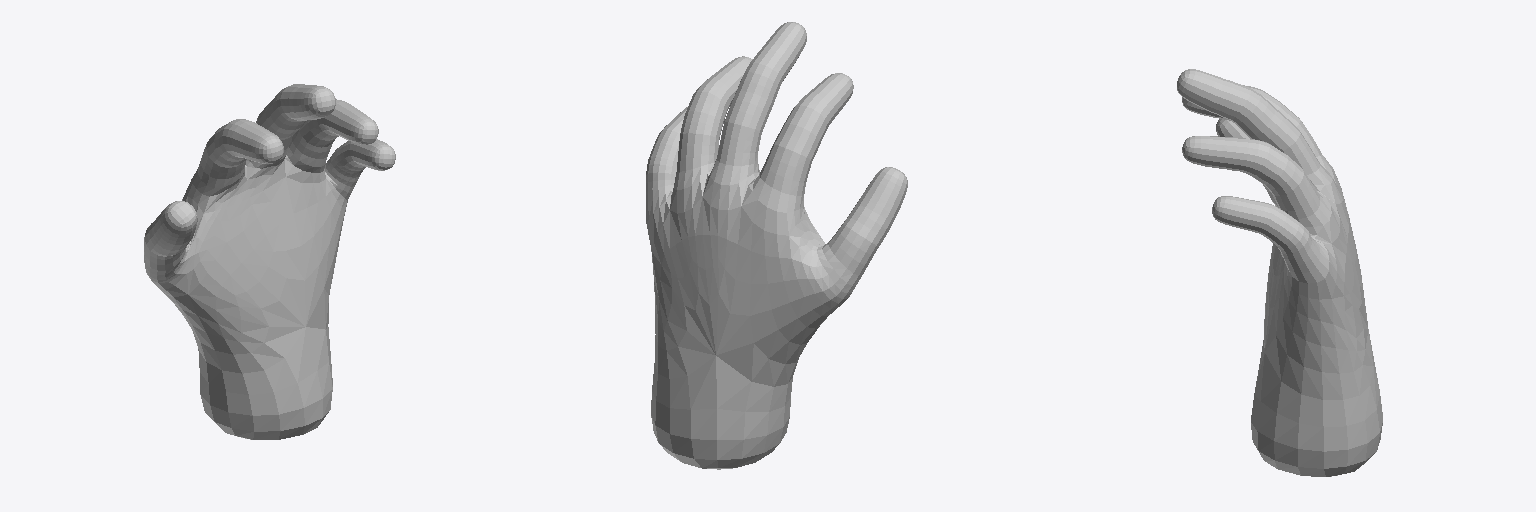
The model's file is handanimatsion19.obj.
3 renders of one model, left to right at view 1: azimuth 30°, elevation 25°; view 2: azimuth 150°, elevation 25°; view 3: azimuth 270°, elevation 25°, orthographic.
Parts seen in each view (by area): view 1: Cube; view 2: Cube; view 3: Cube.
Part boxes in pixels (left/top/right/bottom): Cube: left=144, top=84, right=395, bottom=439; Cube: left=646, top=22, right=907, bottom=469; Cube: left=1177, top=69, right=1382, bottom=476.
Size of the model in its own units: 3.52 by 5.73 by 2.75.